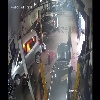fire: (22, 36, 34, 54)
